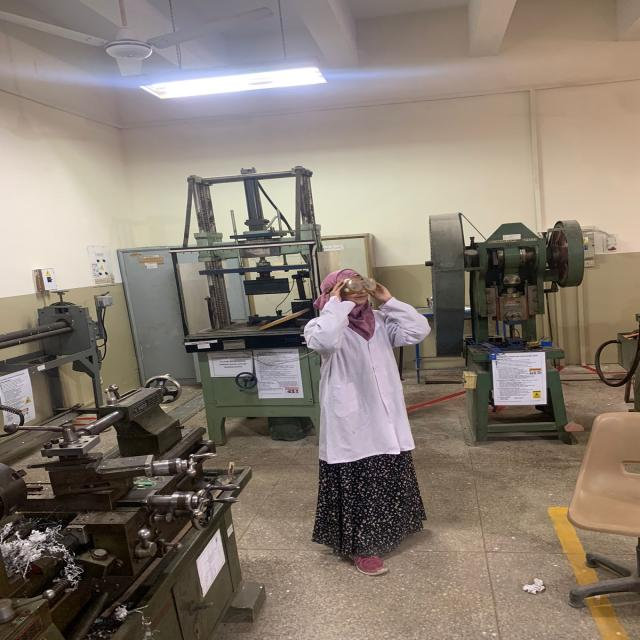googles: (342, 277, 377, 294)
labcoat: (302, 295, 434, 465)
